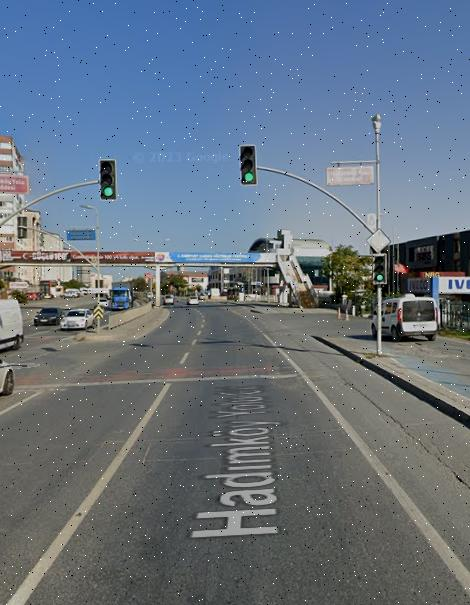greenlight: (241, 145, 257, 184), (100, 159, 116, 197), (374, 255, 385, 282)
